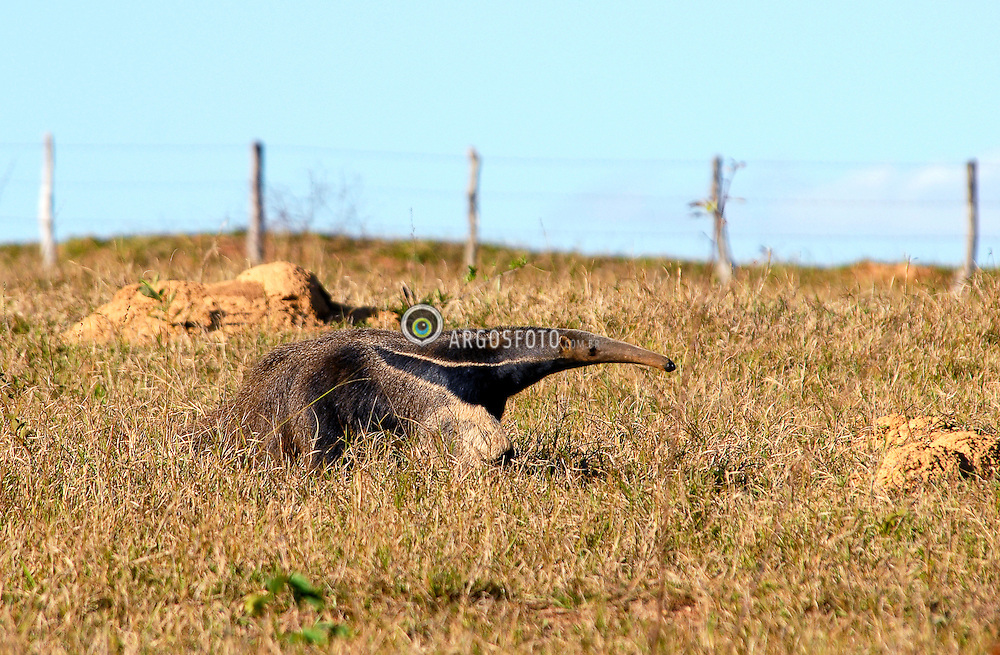TamanduaBandeira: (200, 321, 679, 467)
